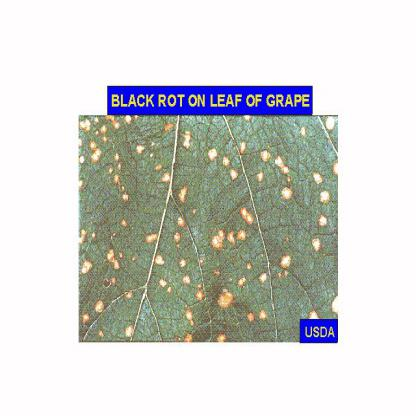grape leaf black rot: (80, 118, 333, 316)
